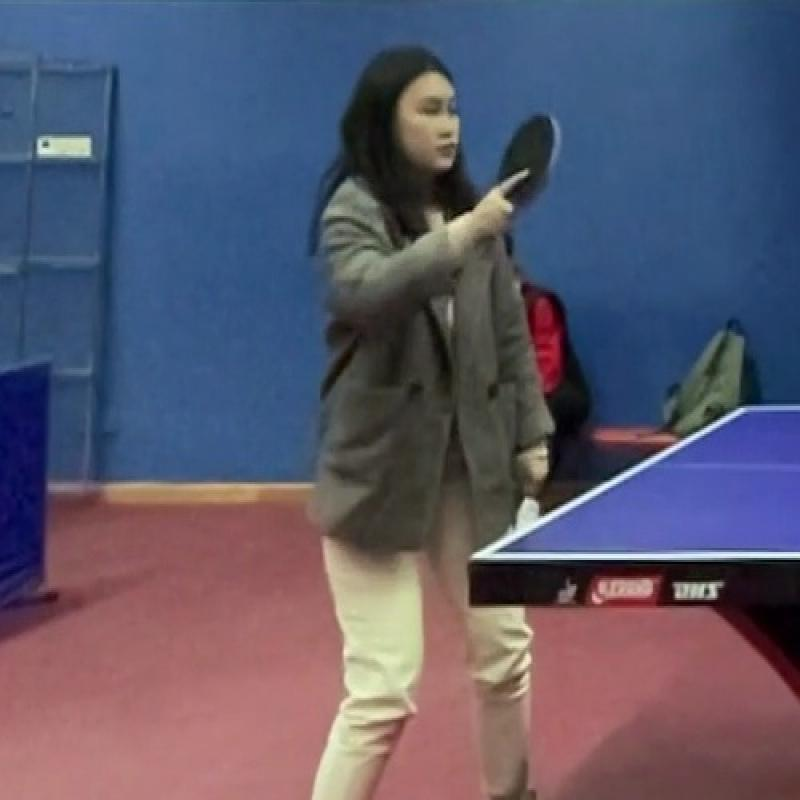bats: (492, 113, 594, 226)
